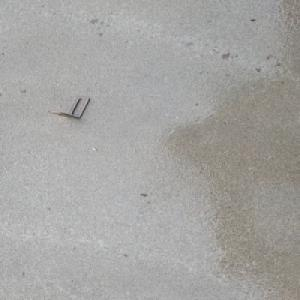MetalPart: (47, 95, 91, 119)
